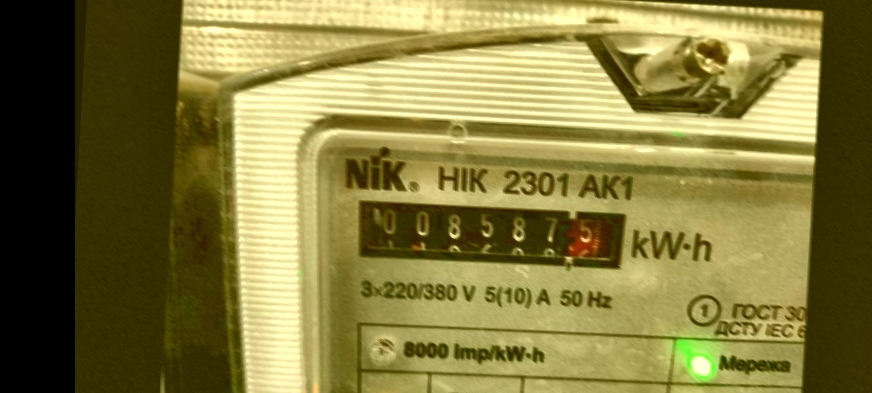0: (381, 205, 400, 235), (415, 208, 434, 237)
5: (479, 210, 498, 239), (579, 216, 597, 246)
7: (543, 213, 562, 244)
8: (511, 212, 530, 243), (447, 211, 465, 239)
screen: (339, 183, 645, 282)
